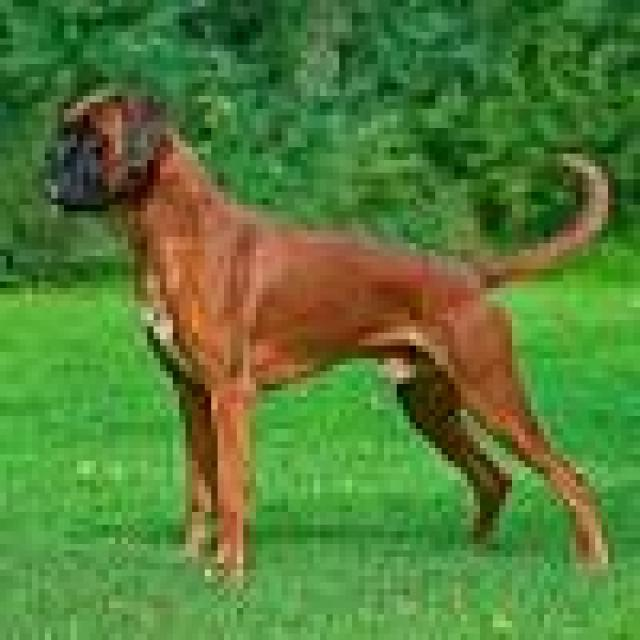good: (42, 73, 624, 584)
